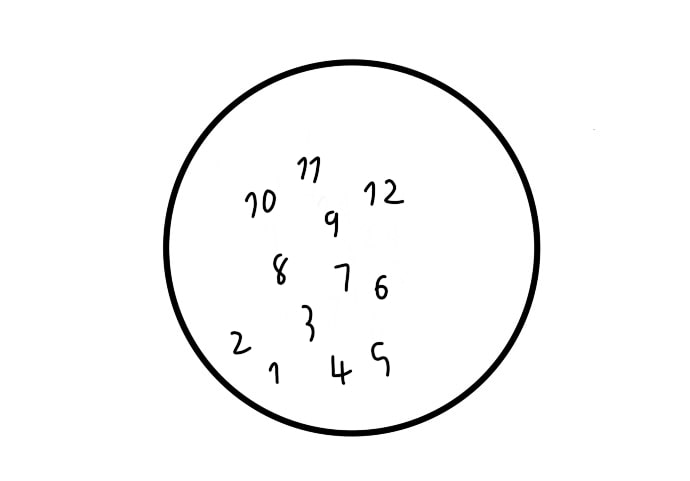eight: (271, 249, 289, 289)
eleven: (294, 151, 323, 186)
five: (368, 338, 393, 378)
four: (327, 352, 352, 387)
nine: (323, 207, 342, 238)
one: (267, 360, 282, 385)
seven: (333, 261, 352, 294)
six: (374, 272, 389, 301)
ten: (243, 186, 278, 220)
three: (297, 299, 319, 347)
twelve: (363, 174, 407, 210)
two: (225, 328, 254, 359)
